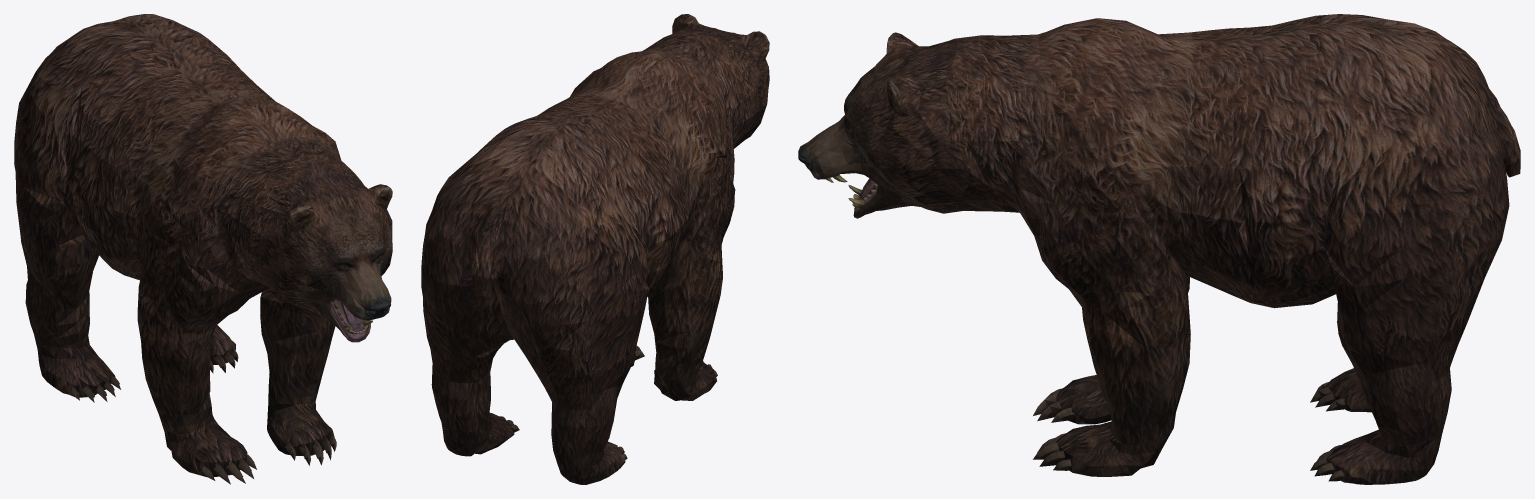
Rendered from brown_bear.gltf.
The picture shows the model from 3 angles, left to right: view 1: azimuth 30°, elevation 25°; view 2: azimuth 150°, elevation 25°; view 3: azimuth 270°, elevation 25°; orthographic projection. The views are drawn at different scales.
Bounding box in the file's own units: 1.08 × 1.6 × 2.5.
1 material, 1 textured.
